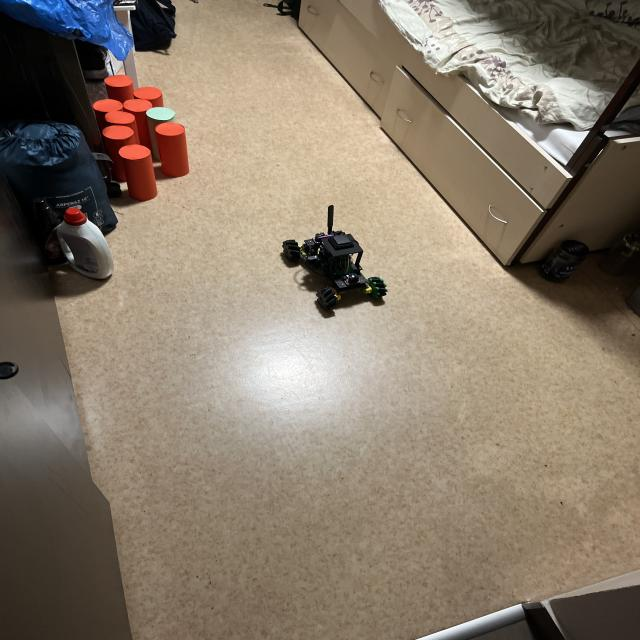robot: (282, 205, 387, 309)
